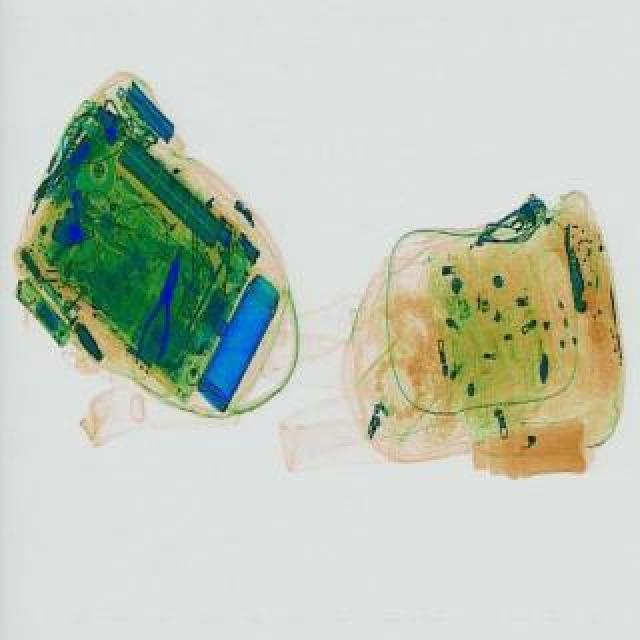wrench: (132, 240, 192, 366)
